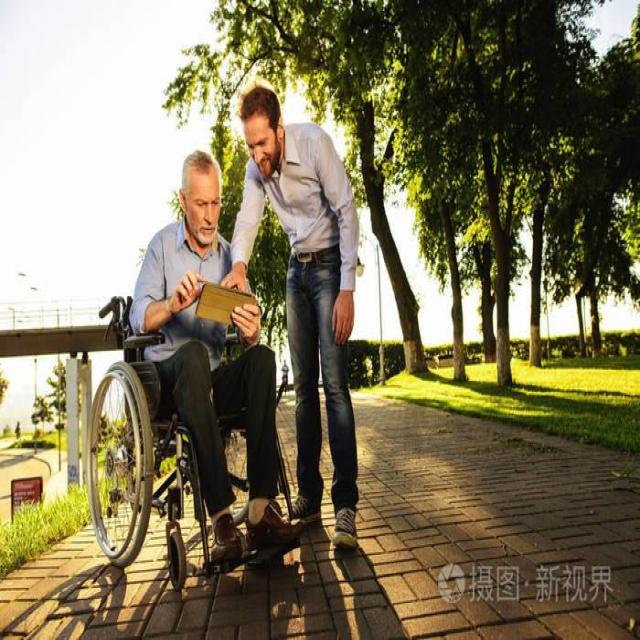wheelchairs: (83, 290, 304, 586)
